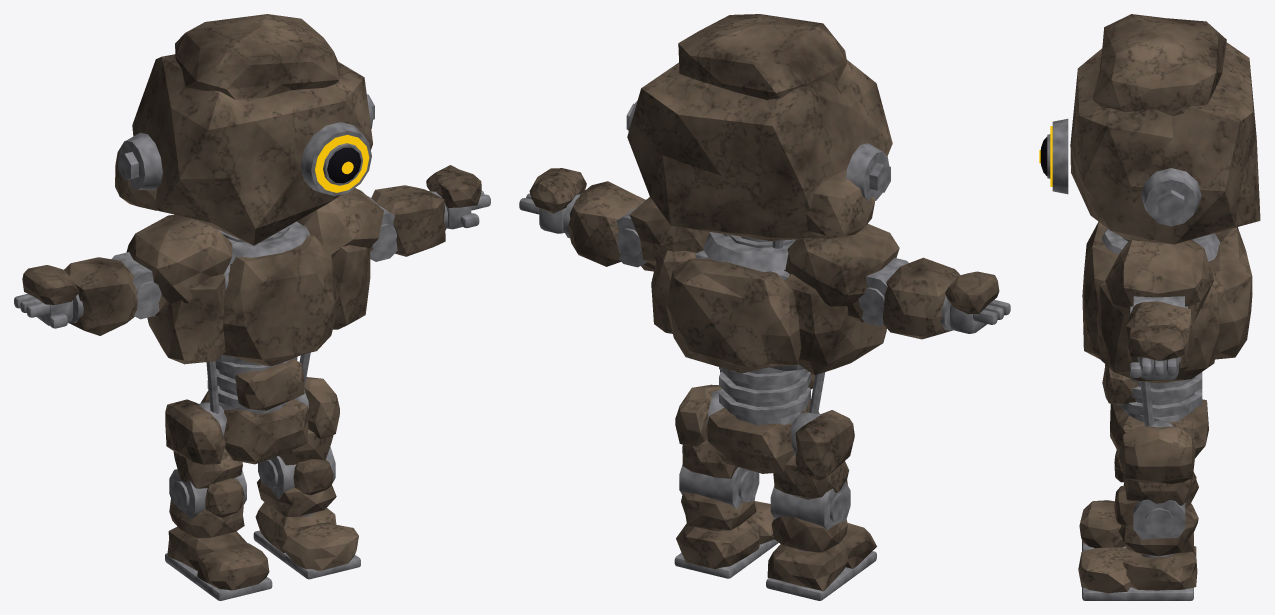
The model's file is nodexeus-crew-rock.glb.
3 views of the same model, side by side, from view 1: azimuth 30°, elevation 25°; view 2: azimuth 150°, elevation 25°; view 3: azimuth 270°, elevation 25° (orthographic). The views are drawn at different scales.
Visible parts, largest first — view 1: crew-rock; view 2: crew-rock; view 3: crew-rock.
Part boxes in pixels (box(x1,y1,x2,y2)): crew-rock: box(14, 14, 490, 600); crew-rock: box(519, 14, 1010, 600); crew-rock: box(1039, 14, 1260, 600).
Bounding box in the file's own units: 1.78 × 1.95 × 0.73.
1 material, 1 textured.
